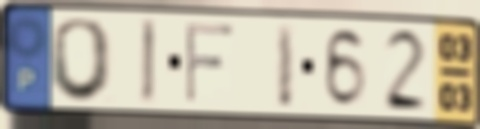2: (377, 28, 432, 112)
6: (322, 27, 370, 110)
F: (183, 20, 238, 107)
I: (273, 21, 298, 111), (138, 16, 159, 108)
O: (48, 16, 116, 105)
